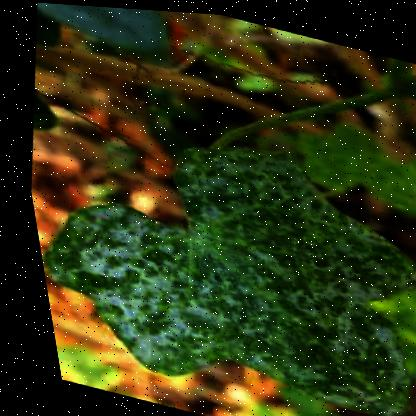PowderyMildew: (179, 177, 406, 384), (62, 206, 264, 361)
